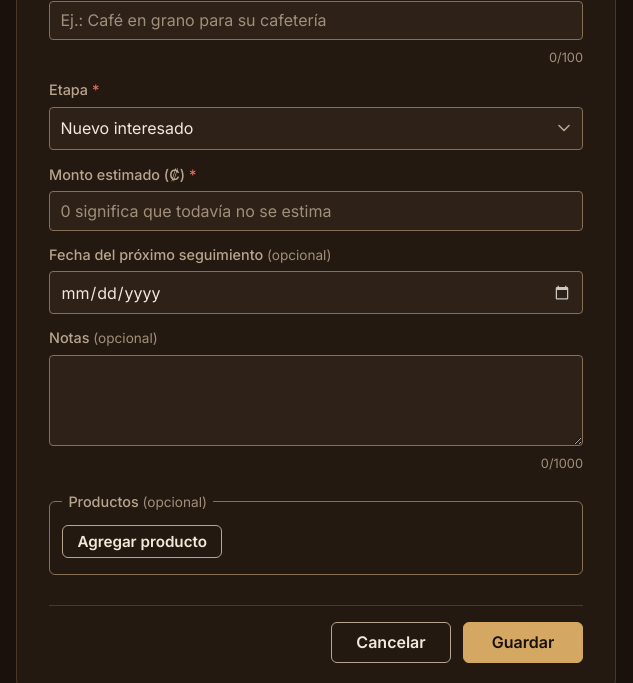
Test: HU-301 Crear una oportunidad de venta › sin llenar los obligatorios muestra los mensajes y no guarda
(page scrolled)
Click the button "Guardar".
click(523, 642)  # box [463, 622, 583, 663]
(page scrolled)
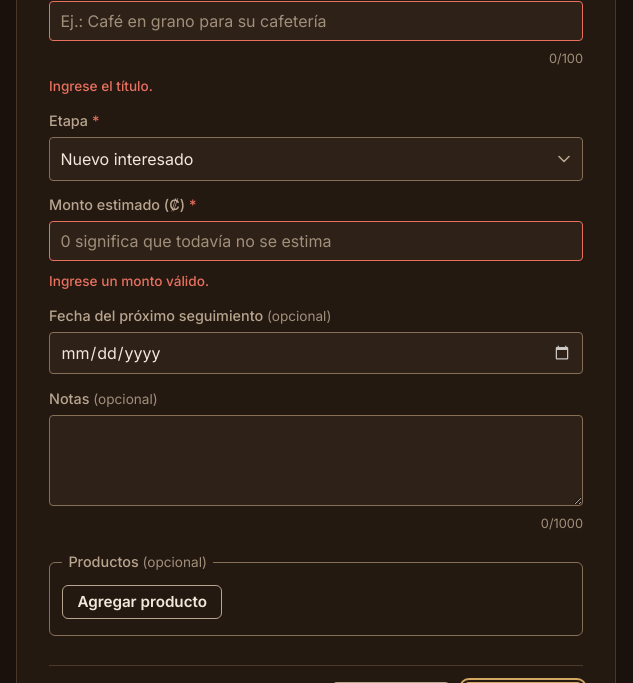
Check: the message "Ingrese el título." is shown, box [49, 78, 153, 94]
